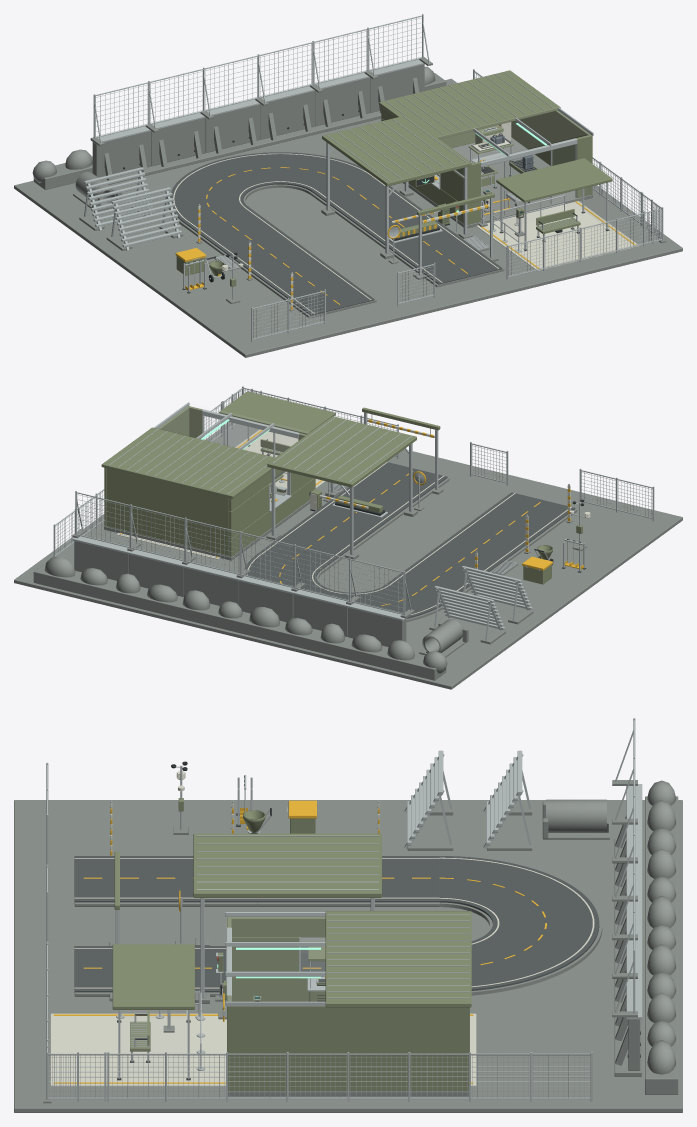
File: mountain-border-checkpoint-mountain-bord-7a75163e-starter-scene__30339.glb
The picture shows the model from 3 angles, top to bottom: view 1: azimuth 30°, elevation 25°; view 2: azimuth 150°, elevation 25°; view 3: azimuth 270°, elevation 25°; orthographic projection. The views are drawn at different scales.
Visible parts, largest first — view 1: 000-mountain-border-checkpoint-mountain-checkpoint-ground/0, 006-mountain-border-checkpoint-roofed-passport-hall/1, 005-mountain-border-checkpoint-road-hairpin-module/1, 007-mountain-border-checkpoint-vehicle-inspection-canopy/2, 000-mountain-border-checkpoint-mountain-checkpoint-ground/1, 001-mountain-border-checkpoint-switchback-road-module/1, 002-mountain-border-checkpoint-switchback-road-module/1, 003-mountain-border-checkpoint-switchback-road-module/1, 004-mountain-border-checkpoint-switchback-road-module/1, 008-mountain-border-checkpoint-passenger-shelter/2, 006-mountain-border-checkpoint-roofed-passport-hall/0, 013-mountain-border-checkpoint-retaining-wall/0 (+28 smaller); view 2: 000-mountain-border-checkpoint-mountain-checkpoint-ground/0, 006-mountain-border-checkpoint-roofed-passport-hall/1, 007-mountain-border-checkpoint-vehicle-inspection-canopy/2, 001-mountain-border-checkpoint-switchback-road-module/1, 003-mountain-border-checkpoint-switchback-road-module/1, 005-mountain-border-checkpoint-road-hairpin-module/1, 002-mountain-border-checkpoint-switchback-road-module/1, 004-mountain-border-checkpoint-switchback-road-module/1, 008-mountain-border-checkpoint-passenger-shelter/2, 006-mountain-border-checkpoint-roofed-passport-hall/2, 021-mountain-border-checkpoint-avalanche-barrier/0, 007-mountain-border-checkpoint-vehicle-inspection-canopy/1 (+21 smaller); view 3: 000-mountain-border-checkpoint-mountain-checkpoint-ground/0, 006-mountain-border-checkpoint-roofed-passport-hall/1, 005-mountain-border-checkpoint-road-hairpin-module/1, 007-mountain-border-checkpoint-vehicle-inspection-canopy/2, 000-mountain-border-checkpoint-mountain-checkpoint-ground/1, 006-mountain-border-checkpoint-roofed-passport-hall/2, 001-mountain-border-checkpoint-switchback-road-module/1, 008-mountain-border-checkpoint-passenger-shelter/2, 002-mountain-border-checkpoint-switchback-road-module/1, 007-mountain-border-checkpoint-vehicle-inspection-canopy/1, 004-mountain-border-checkpoint-switchback-road-module/1, 023-mountain-border-checkpoint-drainage-culvert/0 (+23 smaller).
Part boxes in pixels (x1=…): 000-mountain-border-checkpoint-mountain-checkpoint-ground/0: x1=14, y1=66, x2=682, y2=357; 006-mountain-border-checkpoint-roofed-passport-hall/1: x1=379, y1=70, x2=592, y2=224; 005-mountain-border-checkpoint-road-hairpin-module/1: x1=170, y1=152, x2=371, y2=222; 007-mountain-border-checkpoint-vehicle-inspection-canopy/2: x1=322, y1=115, x2=471, y2=186; 000-mountain-border-checkpoint-mountain-checkpoint-ground/1: x1=476, y1=201, x2=639, y2=270; 001-mountain-border-checkpoint-switchback-road-module/1: x1=248, y1=253, x2=374, y2=315; 002-mountain-border-checkpoint-switchback-road-module/1: x1=184, y1=207, x2=310, y2=269; 003-mountain-border-checkpoint-switchback-road-module/1: x1=312, y1=176, x2=438, y2=238; 004-mountain-border-checkpoint-switchback-road-module/1: x1=375, y1=222, x2=502, y2=284; 008-mountain-border-checkpoint-passenger-shelter/2: x1=496, y1=158, x2=612, y2=202; 006-mountain-border-checkpoint-roofed-passport-hall/0: x1=403, y1=137, x2=592, y2=228; 013-mountain-border-checkpoint-retaining-wall/0: x1=204, y1=104, x2=266, y2=159; 000-mountain-border-checkpoint-mountain-checkpoint-ground/0: x1=14, y1=422, x2=682, y2=689; 006-mountain-border-checkpoint-roofed-passport-hall/1: x1=101, y1=406, x2=315, y2=557; 007-mountain-border-checkpoint-vehicle-inspection-canopy/2: x1=267, y1=416, x2=416, y2=487; 001-mountain-border-checkpoint-switchback-road-module/1: x1=449, y1=492, x2=575, y2=554; 003-mountain-border-checkpoint-switchback-road-module/1: x1=258, y1=507, x2=384, y2=569; 005-mountain-border-checkpoint-road-hairpin-module/1: x1=244, y1=553, x2=441, y2=618; 002-mountain-border-checkpoint-switchback-road-module/1: x1=386, y1=538, x2=512, y2=597; 004-mountain-border-checkpoint-switchback-road-module/1: x1=321, y1=462, x2=447, y2=523; 008-mountain-border-checkpoint-passenger-shelter/2: x1=219, y1=391, x2=335, y2=434; 006-mountain-border-checkpoint-roofed-passport-hall/2: x1=108, y1=402, x2=299, y2=511; 021-mountain-border-checkpoint-avalanche-barrier/0: x1=434, y1=586, x2=504, y2=640; 007-mountain-border-checkpoint-vehicle-inspection-canopy/1: x1=269, y1=417, x2=415, y2=556; 000-mountain-border-checkpoint-mountain-checkpoint-ground/0: x1=14, y1=780, x2=682, y2=1112; 006-mountain-border-checkpoint-roofed-passport-hall/1: x1=227, y1=911, x2=471, y2=1091; 005-mountain-border-checkpoint-road-hairpin-module/1: x1=439, y1=856, x2=599, y2=990; 007-mountain-border-checkpoint-vehicle-inspection-canopy/2: x1=193, y1=833, x2=381, y2=897; 000-mountain-border-checkpoint-mountain-checkpoint-ground/1: x1=50, y1=1013, x2=476, y2=1086; 006-mountain-border-checkpoint-roofed-passport-hall/2: x1=225, y1=912, x2=469, y2=1006; 001-mountain-border-checkpoint-switchback-road-module/1: x1=74, y1=856, x2=257, y2=902; 008-mountain-border-checkpoint-passenger-shelter/2: x1=112, y1=944, x2=194, y2=1009; 002-mountain-border-checkpoint-switchback-road-module/1: x1=257, y1=856, x2=439, y2=902; 007-mountain-border-checkpoint-vehicle-inspection-canopy/1: x1=196, y1=835, x2=378, y2=998; 004-mountain-border-checkpoint-switchback-road-module/1: x1=74, y1=946, x2=226, y2=992; 023-mountain-border-checkpoint-drainage-culvert/0: x1=542, y1=799, x2=609, y2=839.
Bounding box in the file's own units: 24 × 4.77 × 22.
